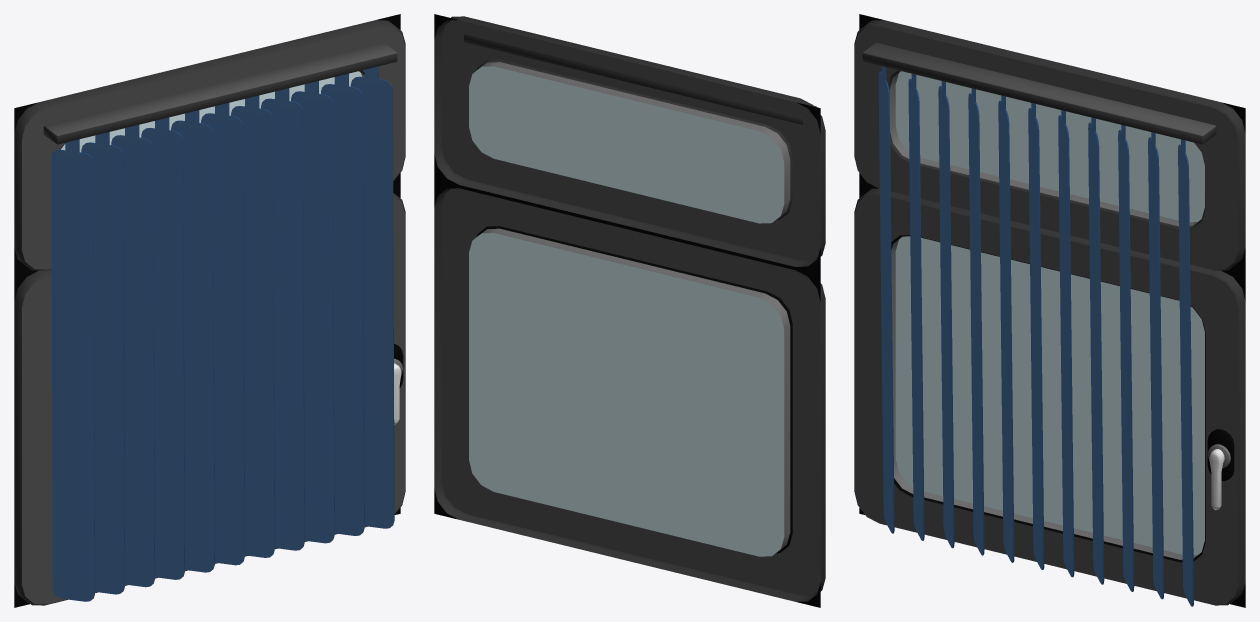
Rendered from 3d_Window.fbx.
3 renders of one model, left to right at view 1: azimuth 30°, elevation 25°; view 2: azimuth 150°, elevation 25°; view 3: azimuth 330°, elevation 25°, orthographic.
Parts seen in each view (by area): view 1: WindowCurtains, 3d_Window; view 2: 3d_Window, WindowCurtains; view 3: 3d_Window, WindowCurtains, WindowHandle.
Boxes of the visible parts, x1,y1,x2,y2 form: WindowCurtains: (43,42,397,601); 3d_Window: (14,14,405,607); 3d_Window: (434,14,825,607); WindowCurtains: (464,34,816,124); 3d_Window: (854,14,1245,607); WindowCurtains: (862,42,1216,606); WindowHandle: (1209,449,1224,509).
Size of the model in its own units: 0.8728 by 1.08 by 0.1008.
